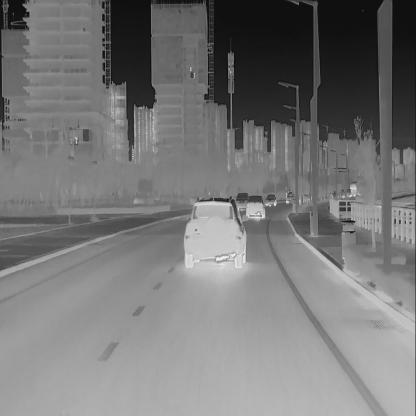car: (183, 196, 248, 270), (246, 193, 265, 218), (235, 191, 249, 212), (264, 193, 276, 207), (285, 191, 295, 204)
truck: (348, 181, 357, 198)
